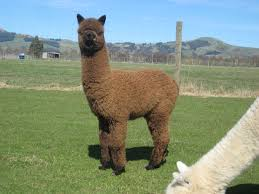alpaca: (76, 13, 179, 175)
